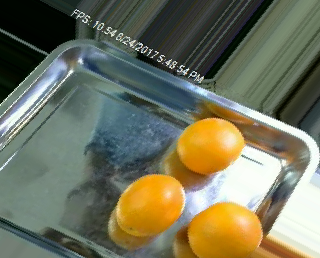Orange: (186, 200, 264, 258), (116, 173, 186, 237), (176, 116, 246, 173)
